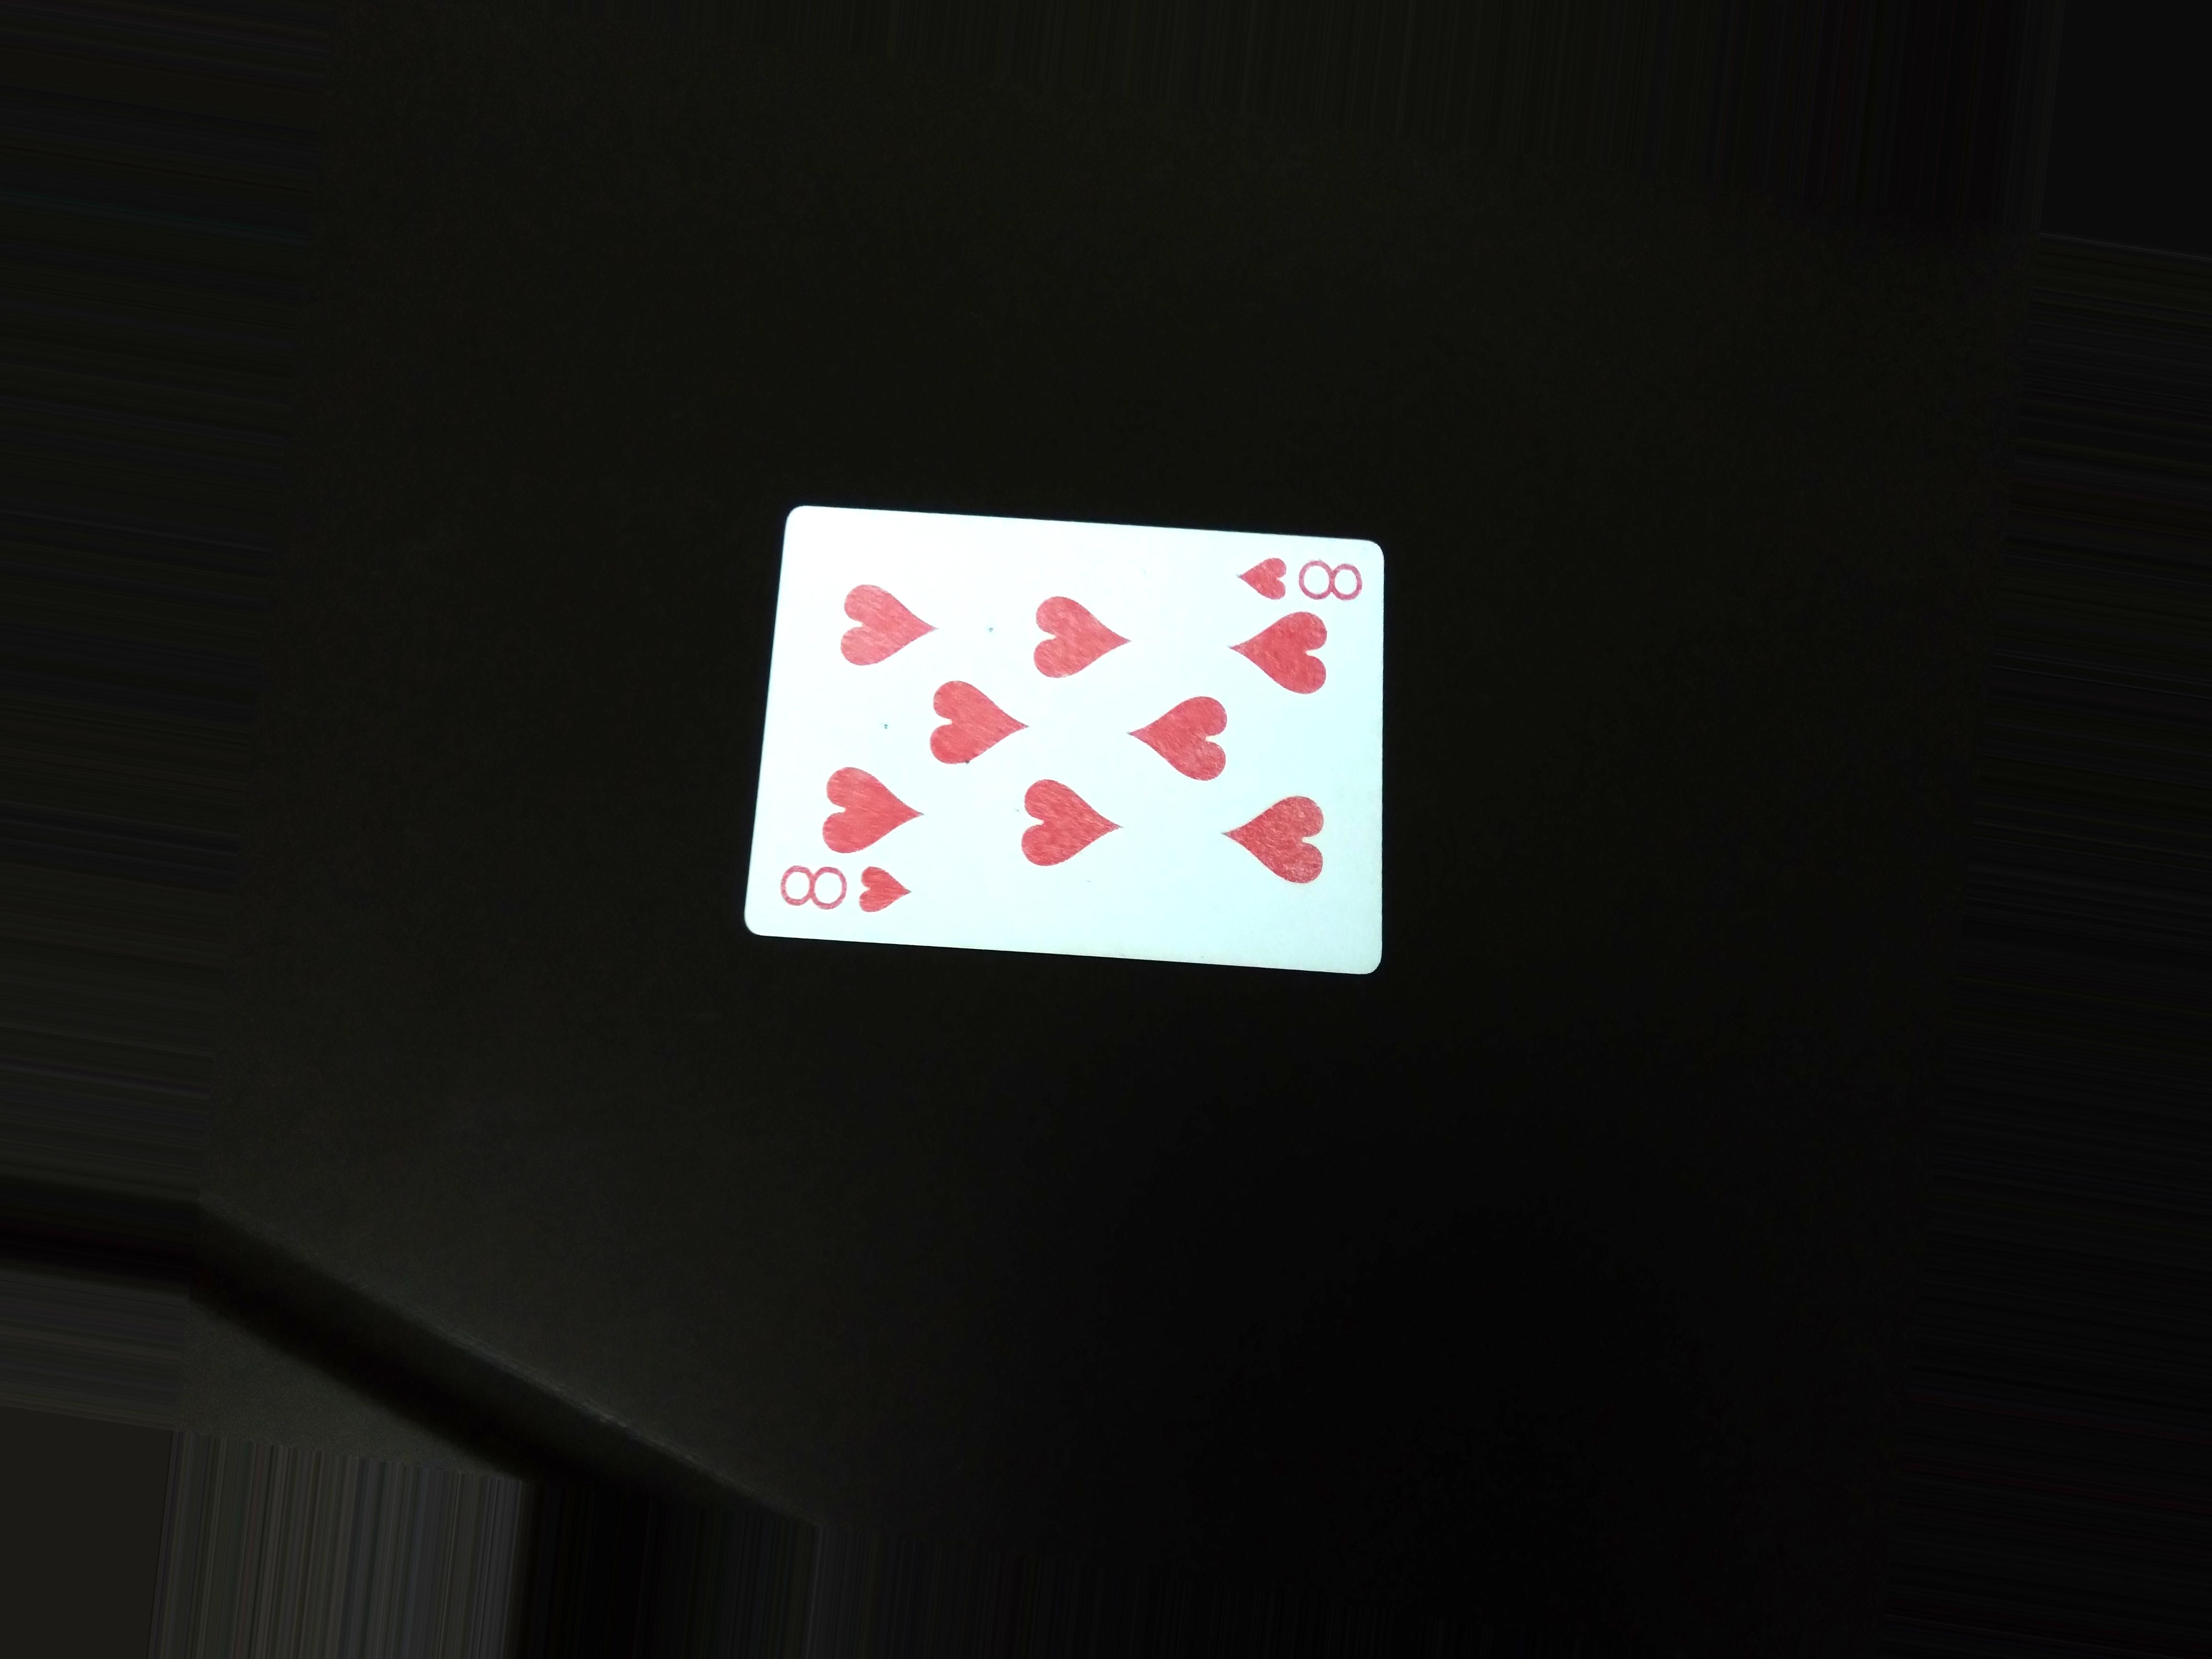8H: (1237, 549, 1371, 615)
